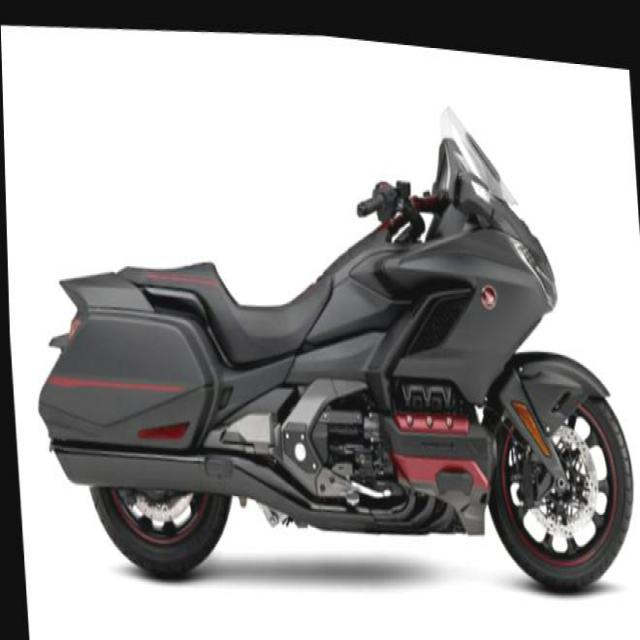Gold Wing: (16, 41, 639, 630)
